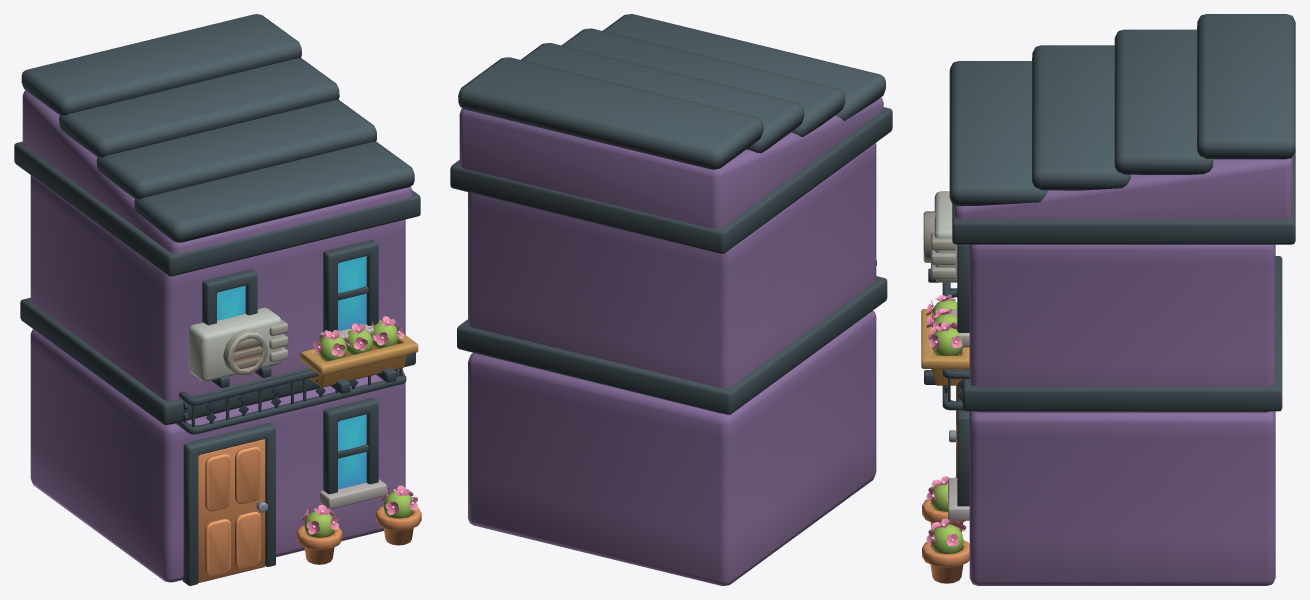
Rendered from mct_build_full_house05.fbx.
3 views of the same model, side by side, from view 1: azimuth 30°, elevation 25°; view 2: azimuth 150°, elevation 25°; view 3: azimuth 270°, elevation 25° (orthographic). The views are drawn at different scales.
Visible parts, largest first — view 1: mct_build_full_house_05, mct_door.005; view 2: mct_build_full_house_05; view 3: mct_build_full_house_05.
Part boxes in pixels (left/top/right/bottom): mct_build_full_house_05: left=14, top=14, right=421, bottom=585; mct_door.005: left=198, top=439, right=267, bottom=582; mct_build_full_house_05: left=450, top=14, right=892, bottom=585; mct_build_full_house_05: left=921, top=14, right=1295, bottom=585.
Size of the model in its own units: 417 by 648 by 489.
